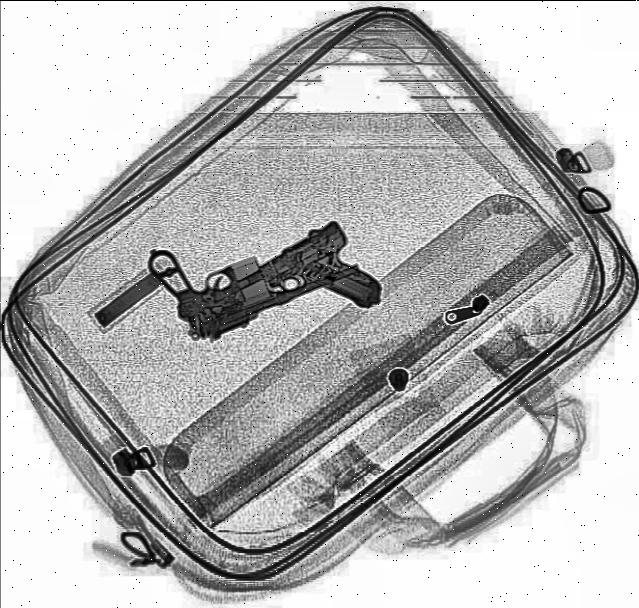Gun: (141, 186, 363, 348), (202, 217, 390, 365)
